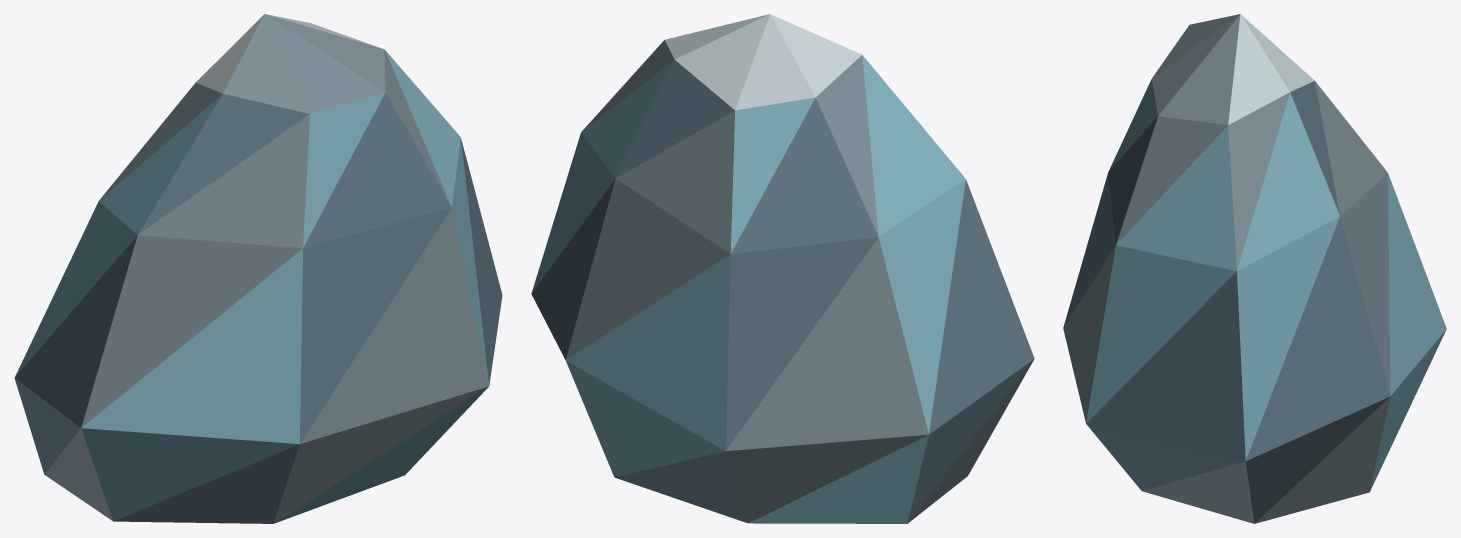
Rendered from rock.glb.
3 views of the same model, side by side, from view 1: azimuth 30°, elevation 25°; view 2: azimuth 150°, elevation 25°; view 3: azimuth 270°, elevation 25° (orthographic). The views are drawn at different scales.
Parts seen in each view (by area): view 1: rock_body; view 2: rock_body; view 3: rock_body.
Boxes of the visible parts, x1,y1,x2,y2 form: rock_body: (14, 14, 502, 523); rock_body: (531, 14, 1034, 523); rock_body: (1063, 14, 1446, 523).
Bounding box in the file's own units: 1.5 × 1.37 × 1.1.
